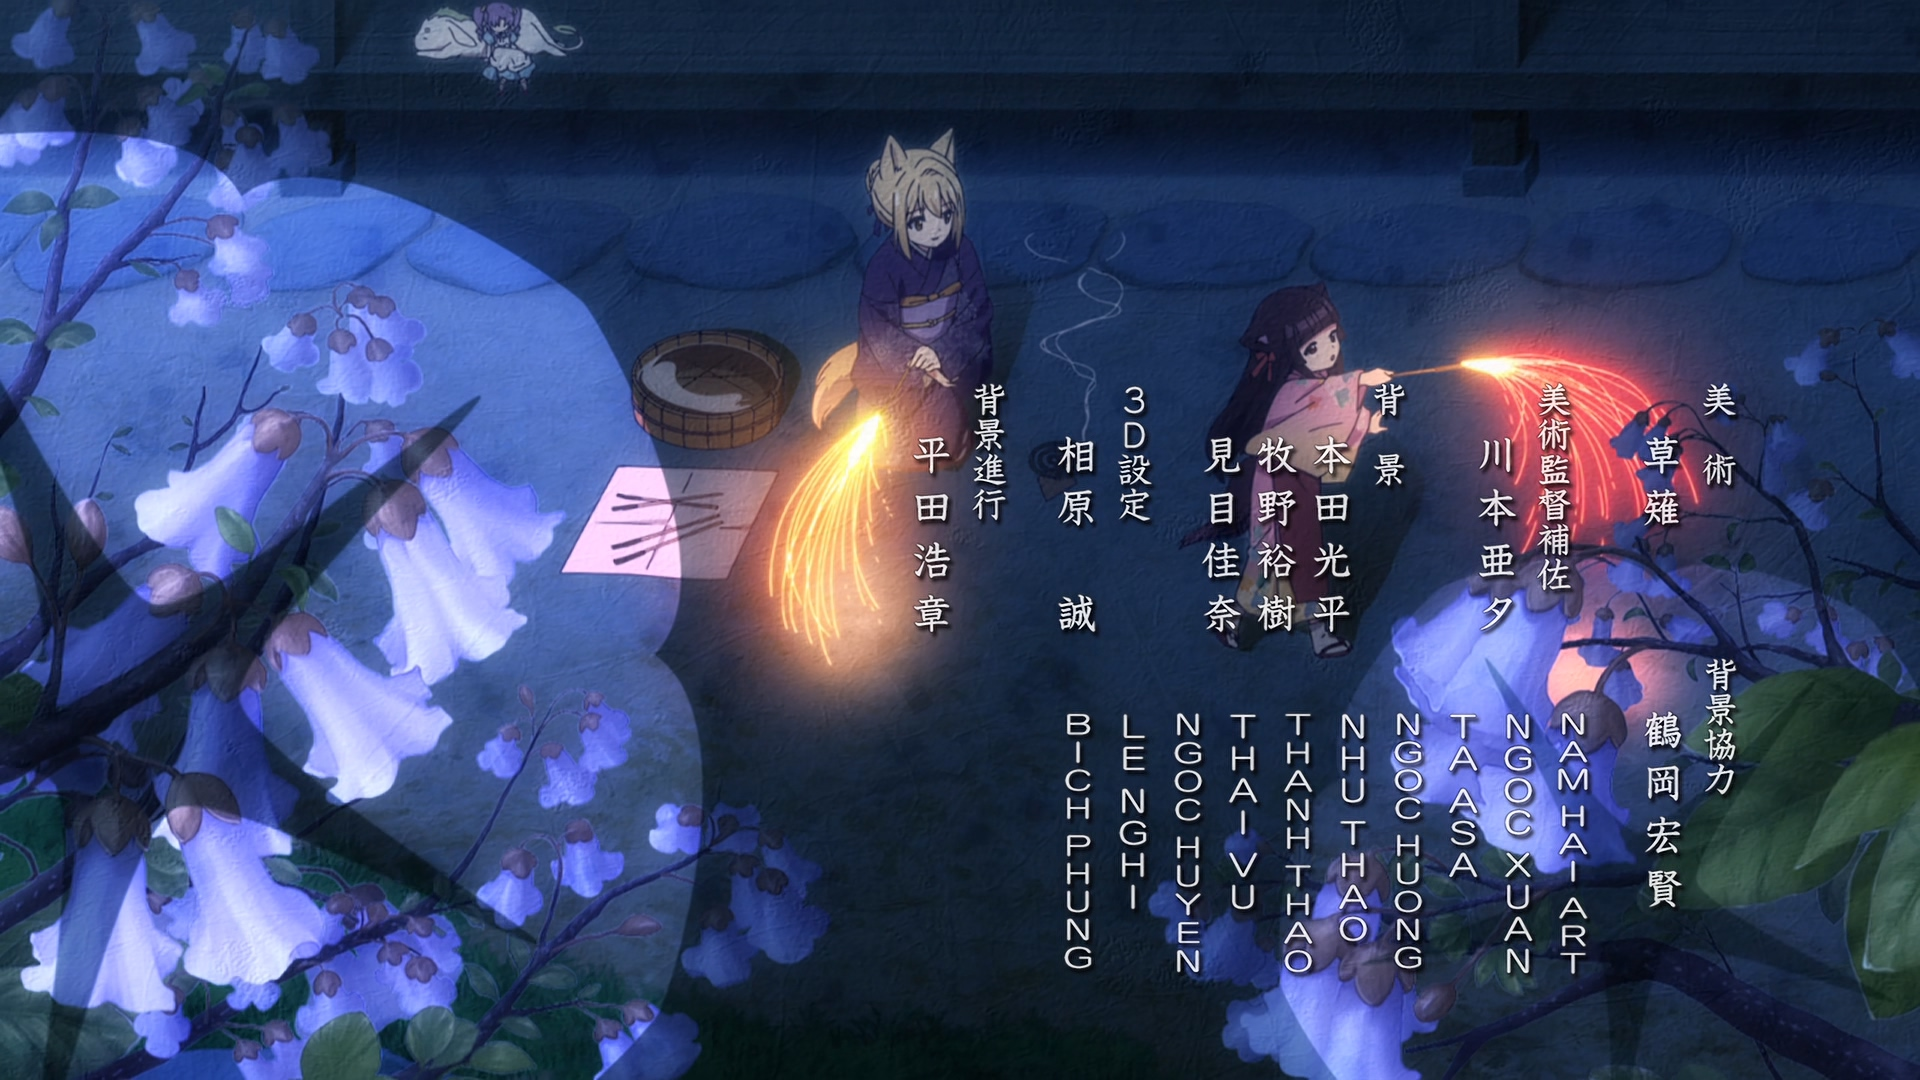桐: (812, 127, 990, 469)
樱: (1180, 284, 1394, 658)
